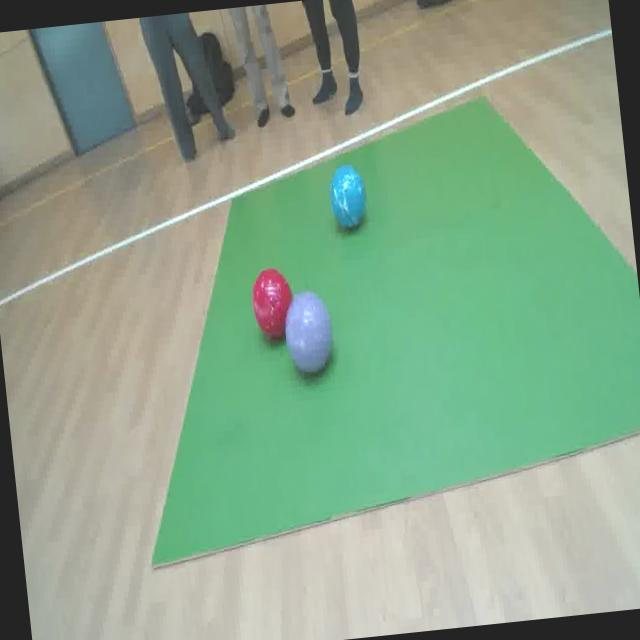blue_ball: (330, 164, 370, 230)
purple_ball: (280, 291, 337, 378)
red_ball: (248, 268, 298, 339)
